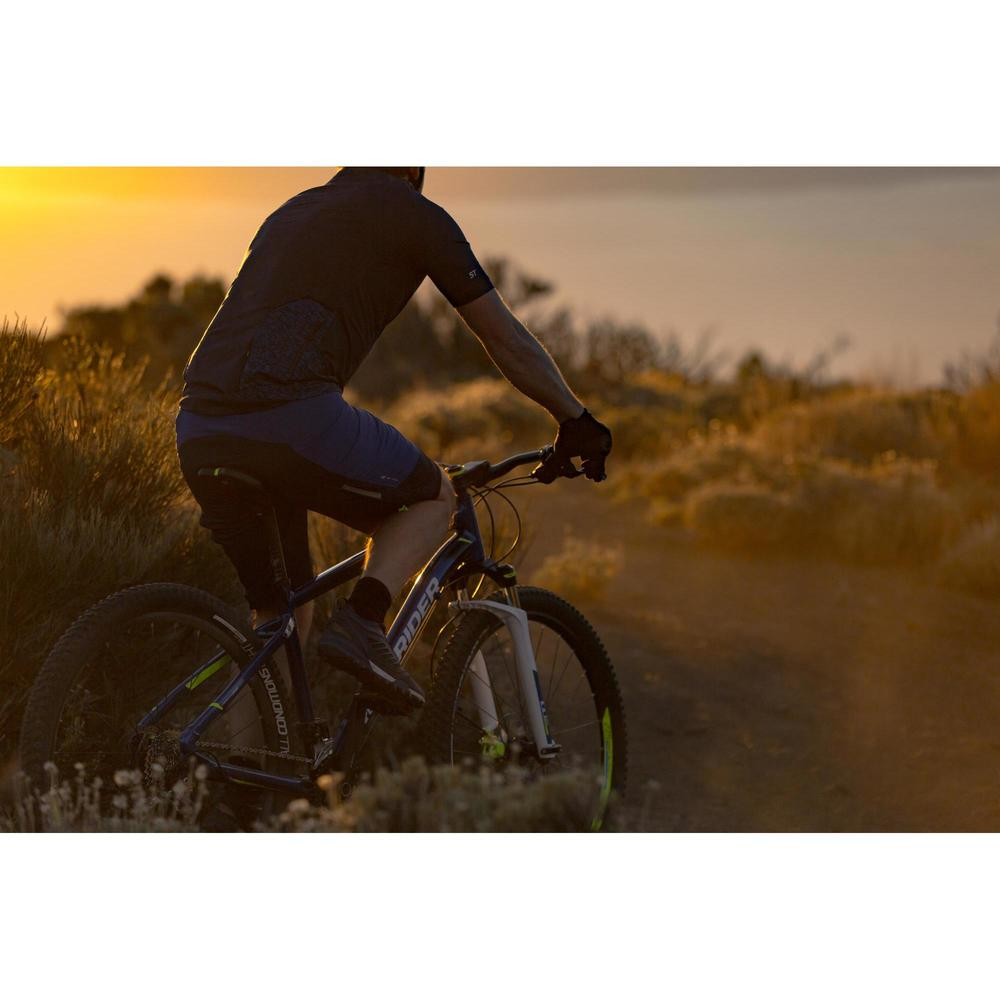MountainBike: (17, 389, 638, 836)
